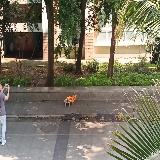fire: (66, 94, 77, 102)
